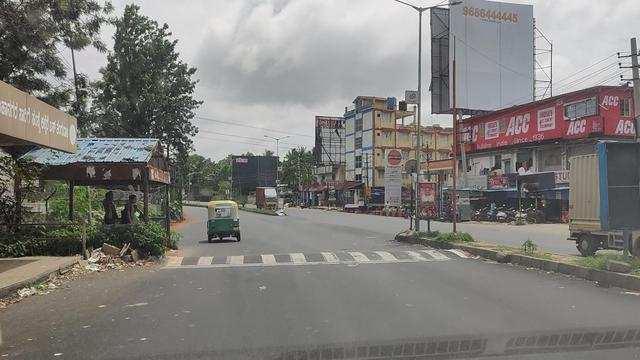LMV: (208, 200, 239, 241)
SpeedBump: (166, 246, 464, 268)
